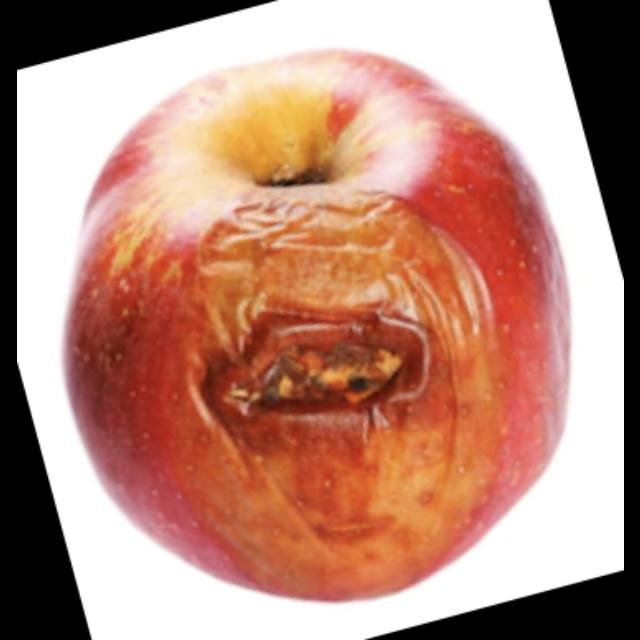Apel Tidak Segar: (33, 35, 622, 609)
